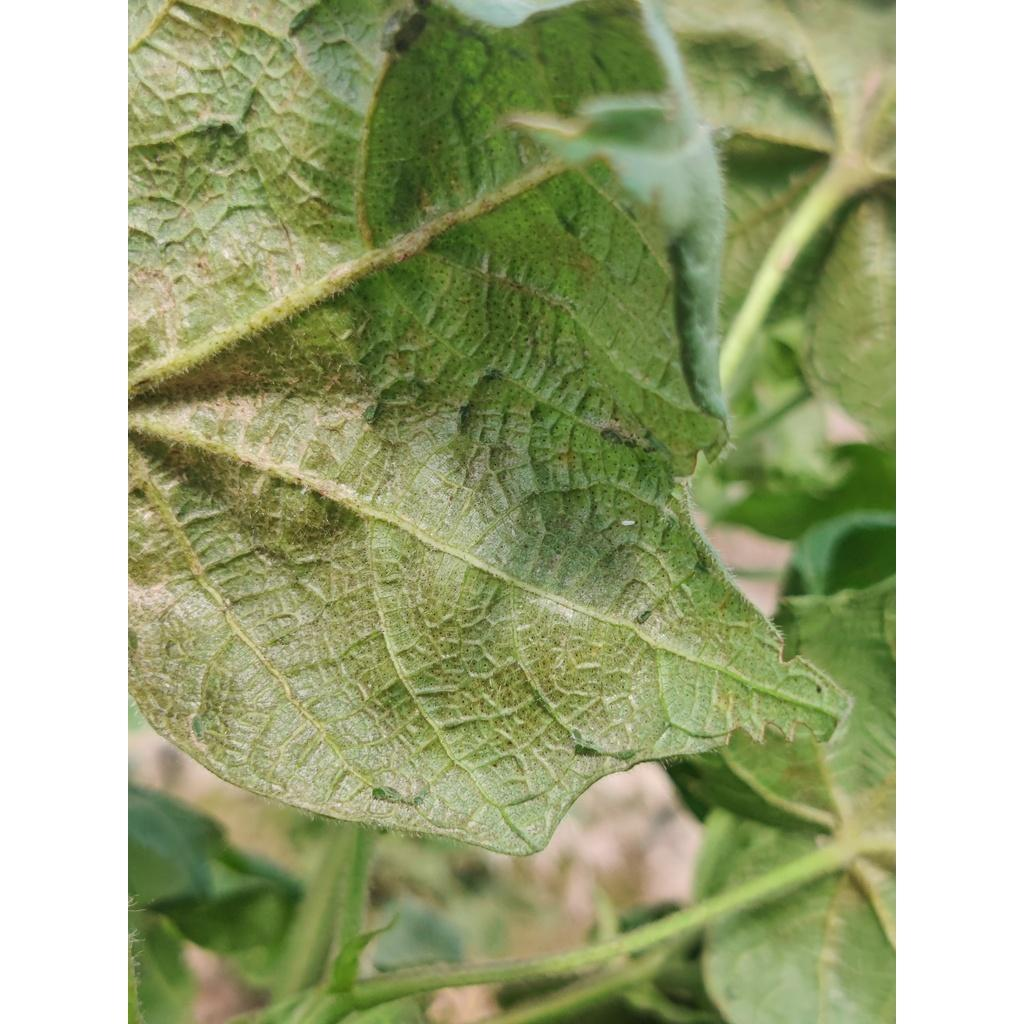adult: (621, 519, 636, 526)
